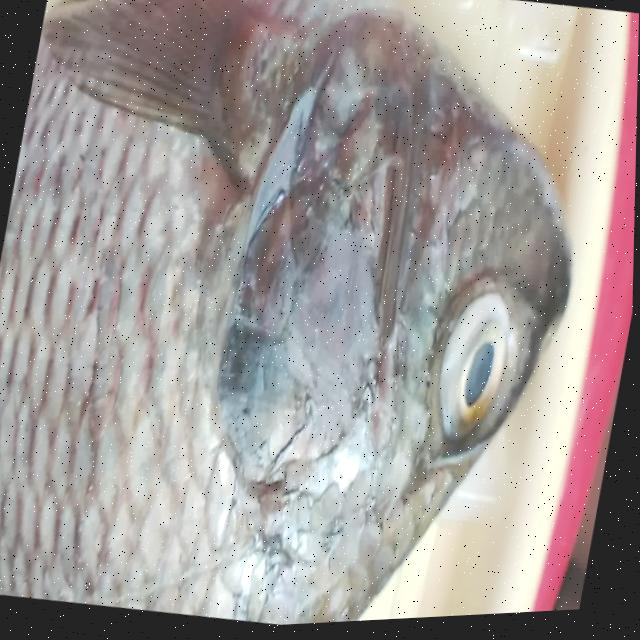Fresh: (0, 0, 414, 640), (426, 257, 566, 462)
